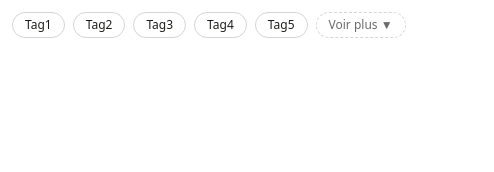
Test case: TagFilter — bouton Voir plus › affiche "Voir moins ▲" après développement
This screenshot has width=494, height=172.
Click the button "Voir plus ▼" at (360, 25), box x1=316 y1=12 x2=406 y2=38
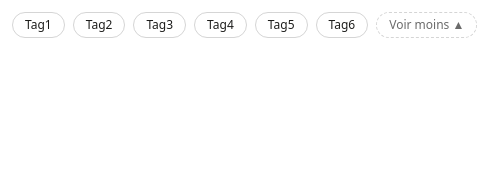
Check: the button "Voir moins ▲" is shown, box x1=376 y1=12 x2=477 y2=38
Check: the button "Voir plus" is gone
